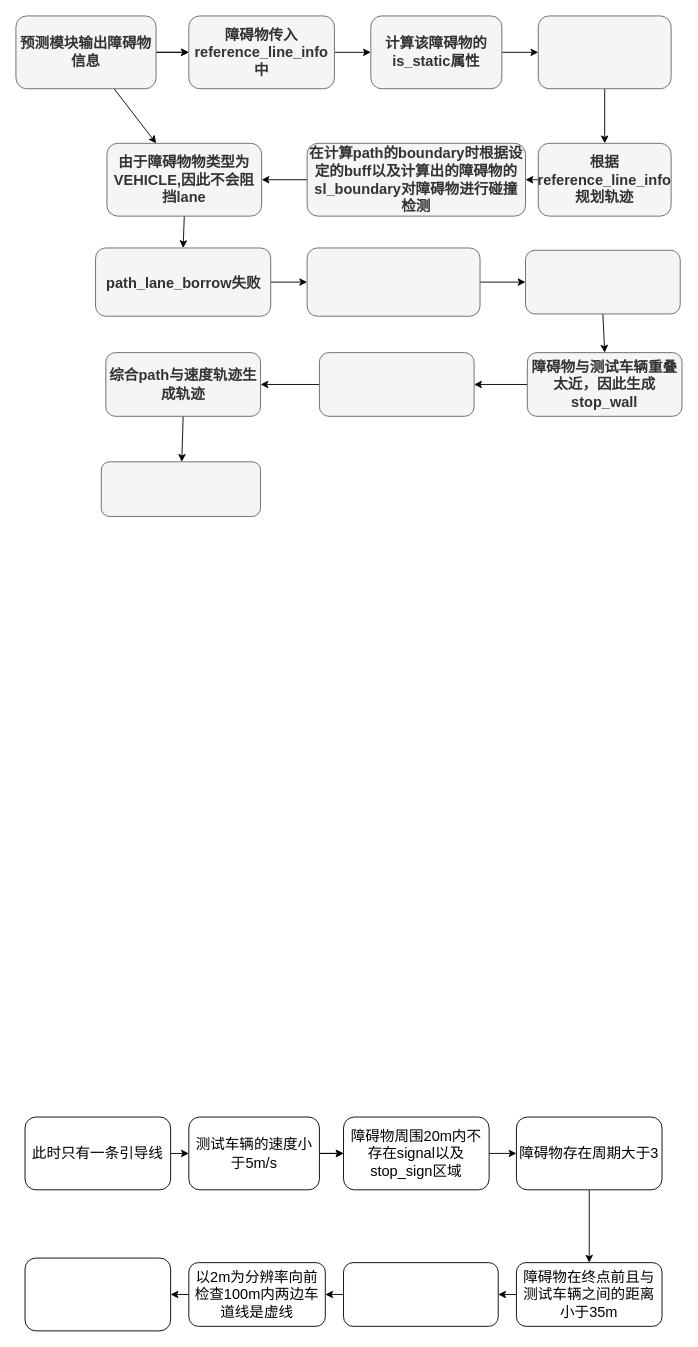
Some shapes in this 698 by 1347 pixel diagram are drawn without their labels. The centre of each missing label's shape, as x and y in pixels:
以上条件均满足则生成借道决策: point (97, 1294)
发布轨迹: point (180, 488)
根据path_decider对该静止障碍物进行判断: point (602, 281)
根据stop_wall以及path生成速度轨迹: point (396, 384)
生成slef_path: point (393, 281)
计算该障碍物在引导线上的sl_boundary: point (604, 52)
障碍物前方没有其他障碍物阻挡或者该障碍物是在路边停下: point (420, 1294)
